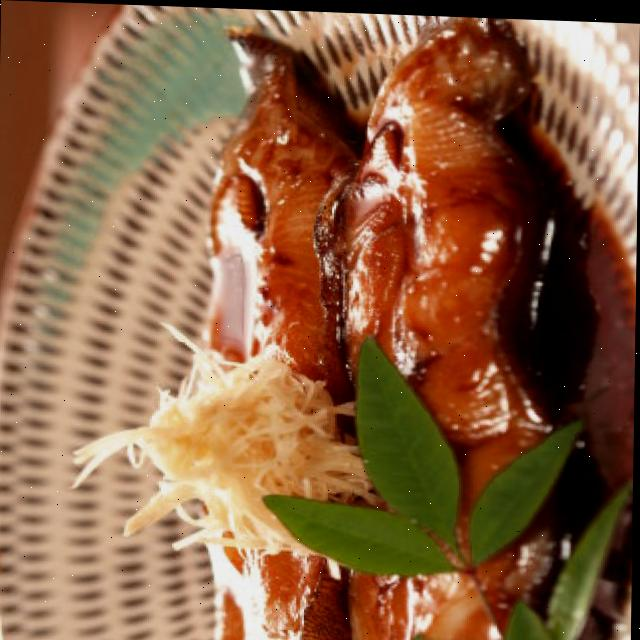熟制海鲜: (105, 3, 636, 640)
